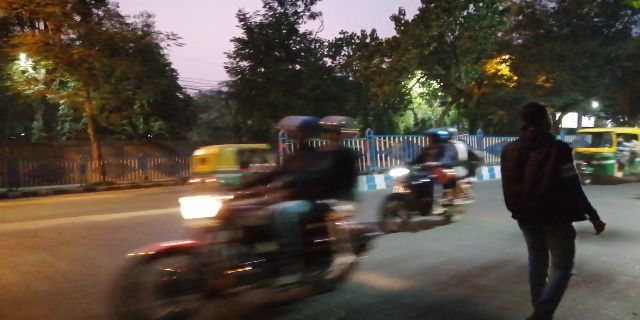Motorbike: (104, 116, 369, 305), (390, 130, 485, 234), (576, 127, 636, 182)
